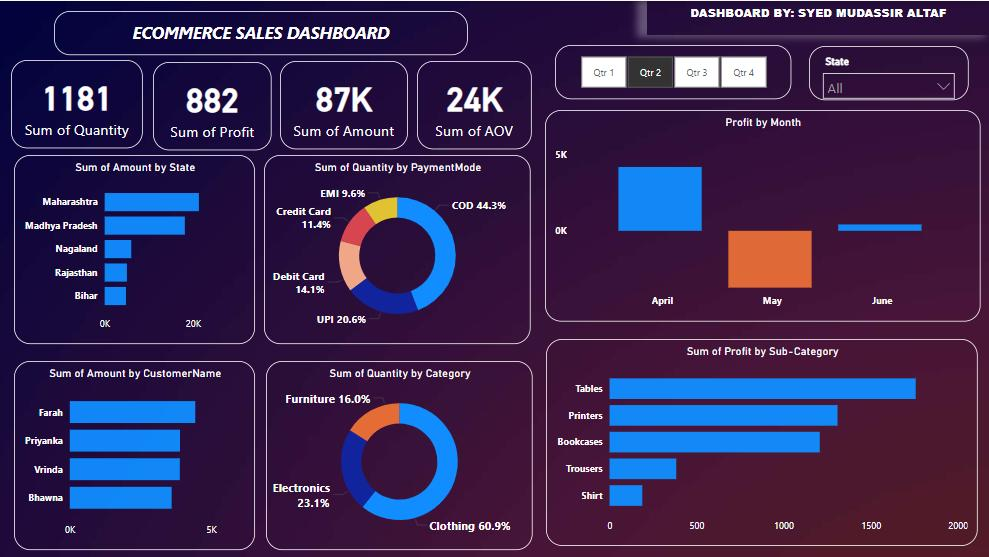

What the dashboard file says about the page in this screenshot:
{"tool":"powerbi","page":{"name":"Page 1","canvas":[1280,720],"ordinal":0},"visuals":[{"type":"textbox","box":[72.2,13.4,534.2,57.1],"z":0},{"type":"columnChart","title":"Profit by Month","fields":{"Y":["Sum(Details.Profit)"],"Category":["Orders.Date.Variation.Date Hierarchy.Month"]},"box":[706.1,140.4,561.5,272.5],"z":1000},{"type":"barChart","fields":{"Category":["Details.Sub-Category"],"Y":["Sum(Details.Profit)"]},"box":[707.4,436.3,557.4,267],"z":2000},{"type":"donutChart","fields":{"Category":["Details.Category"],"Y":["Sum(Details.Quantity)"]},"box":[346,464.1,344.1,243.6],"z":3000},{"type":"donutChart","fields":{"Category":["Details.PaymentMode","Details.Category"],"Y":["Sum(Details.Quantity)"]},"box":[343.3,198.5,344.1,243.6],"z":4000},{"type":"card","fields":{"Values":["Sum(Details.Amount)"]},"box":[364.5,77.3,164.6,114.2],"z":5000},{"type":"card","fields":{"Values":["Sum(Details.Profit)"]},"box":[199.9,79,152.9,114.2],"z":6000},{"type":"card","fields":{"Values":["Sum(Details.Quantity)"]},"box":[16.8,75.6,169.7,114.2],"z":7000},{"type":"card","fields":{"Values":["Sum(Details.AOV)"]},"box":[540.9,77.3,147.8,114.2],"z":8000},{"type":"barChart","fields":{"Category":["Orders.State"],"Y":["Sum(Details.Amount)"]},"box":[21.2,198.5,311.1,243.6],"z":9000},{"type":"barChart","fields":{"Category":["Orders.CustomerName"],"Y":["Sum(Details.Amount)"]},"box":[21.2,464.1,311.1,243.6],"z":10000},{"type":"slicer","fields":{"Values":["Orders.Date.Variation.Date Hierarchy.Quarter"]},"box":[718.7,56.8,304.5,69.7],"z":11000},{"type":"slicer","fields":{"Values":["Orders.State"]},"box":[1046.5,58.1,206.5,69.7],"z":12000},{"type":"textbox","box":[837.4,0,442.6,43.9],"z":12001}]}

Visuals, with their boxes in screenshot pixels (x1, y1, x2, y2), scaled from the page's 1280x720 canvas onto the 989x557 screenshot:
textbox: [56, 10, 469, 55]
"Profit by Month" columnChart: [546, 109, 979, 319]
barChart - Details.Sub-Category x Sum(Details.Profit): [547, 338, 977, 544]
donutChart - Details.Category x Sum(Details.Quantity): [267, 359, 533, 547]
donutChart - Details.PaymentMode x Details.Category: [265, 154, 531, 342]
card - Sum(Details.Amount): [282, 60, 409, 148]
card - Sum(Details.Profit): [154, 61, 273, 149]
card - Sum(Details.Quantity): [13, 58, 144, 147]
card - Sum(Details.AOV): [418, 60, 532, 148]
barChart - Orders.State x Sum(Details.Amount): [16, 154, 257, 342]
barChart - Orders.CustomerName x Sum(Details.Amount): [16, 359, 257, 547]
slicer - Orders.Date.Variation.Date Hierarchy.Quarter: [555, 44, 791, 98]
slicer - Orders.State: [809, 45, 968, 99]
textbox: [647, 0, 988, 34]
